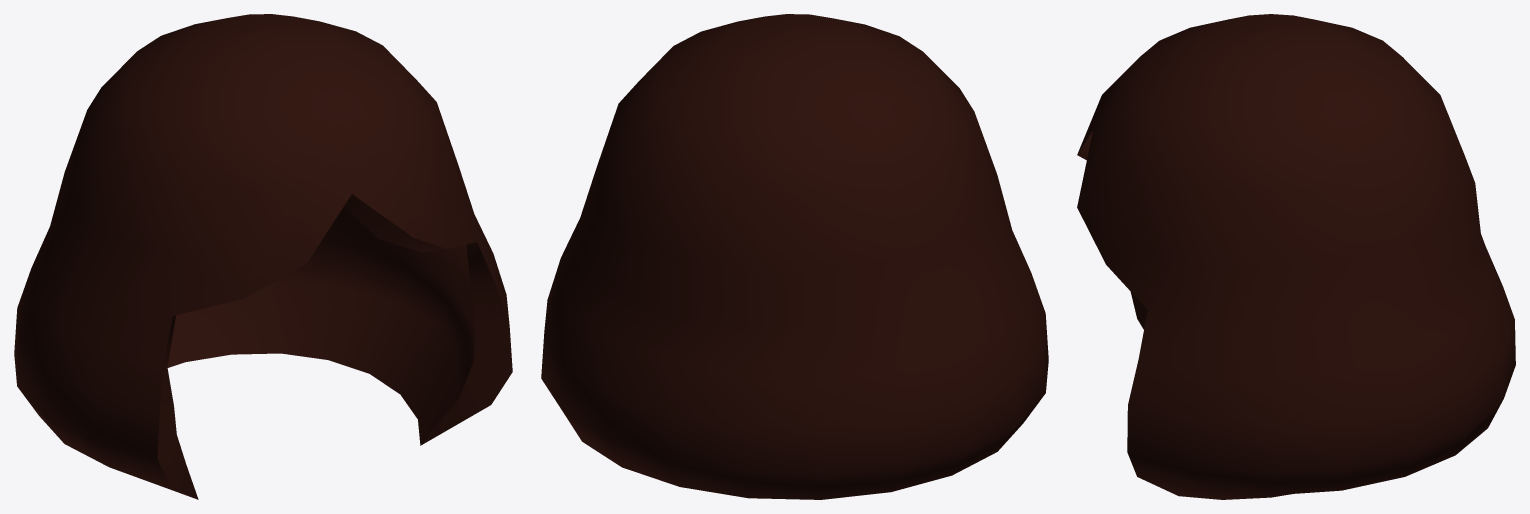
File: Hair08.FBX
3 renders of one model, left to right at view 1: azimuth 30°, elevation 25°; view 2: azimuth 150°, elevation 25°; view 3: azimuth 270°, elevation 25°, orthographic.
Parts seen in each view (by area): view 1: Hair08; view 2: Hair08; view 3: Hair08.
Boxes of the visible parts, box(x1,y1,x2,y2) form: Hair08: box(14, 14, 512, 499); Hair08: box(541, 14, 1048, 499); Hair08: box(1077, 14, 1515, 499).
Bounding box in the file's own units: 563 × 496 × 485.
